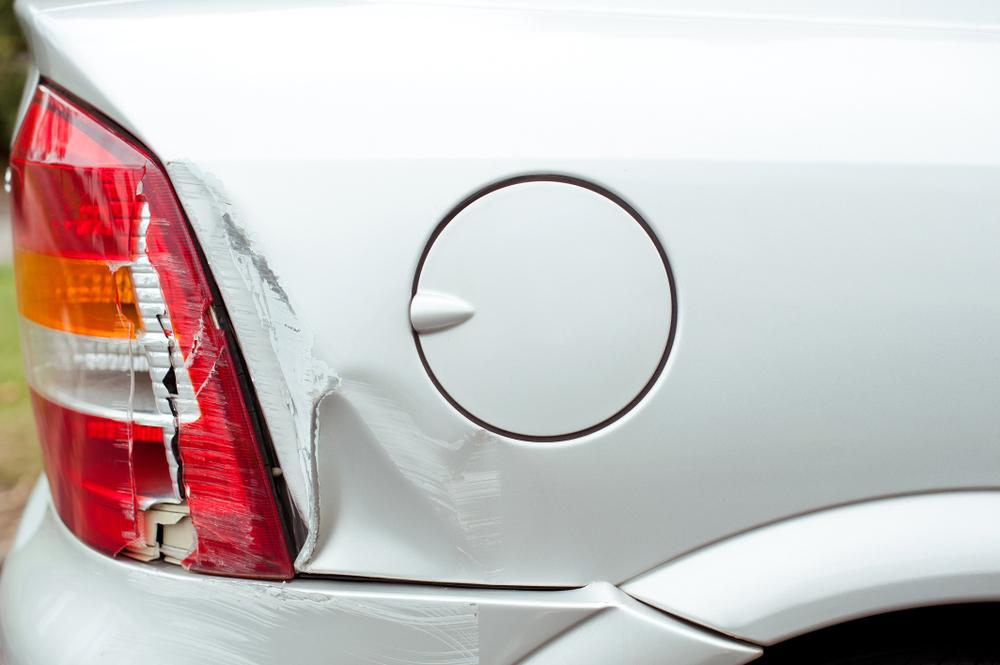dent: (296, 374, 489, 583)
lamp broken: (11, 81, 290, 580)
scratch: (164, 159, 344, 529), (155, 580, 487, 665), (439, 425, 506, 576)
